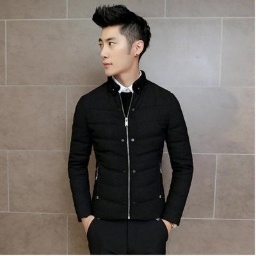face: (94, 4, 152, 77)
